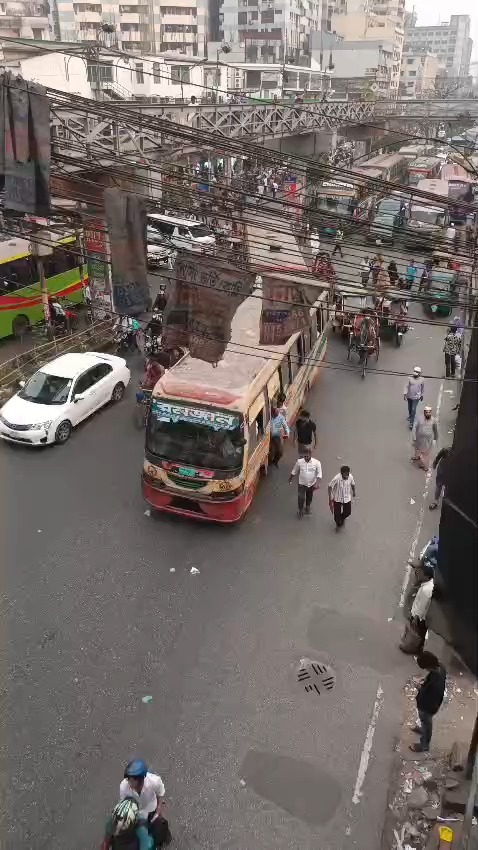Bus: (148, 273, 333, 530)
cng: (419, 267, 459, 321)
private car: (0, 346, 134, 450)
